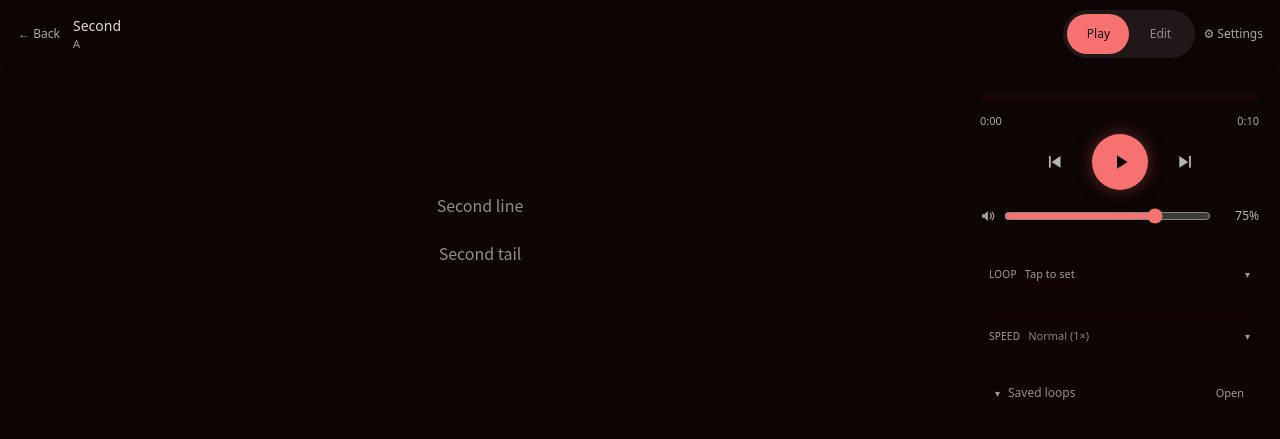
Scenario: switching songs before the first load settles › does not let a superseded load drag the user out of Edit mode
This screenshot has width=1280, height=439.
Check: the text "Second" is shown, box [73,16,121,35]
Click the button "Edit".
click(1160, 34)  # box [1130,14,1192,54]
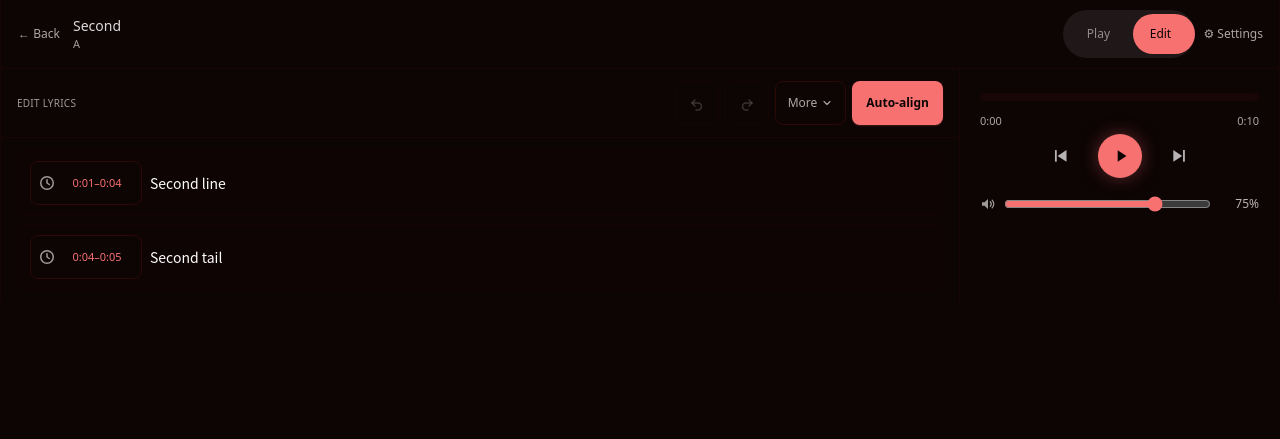
Check: the text "Second" is shown, box [73,16,121,35]
Check: the button named "edit timestamp for line" is shown, box [30,161,142,205]
